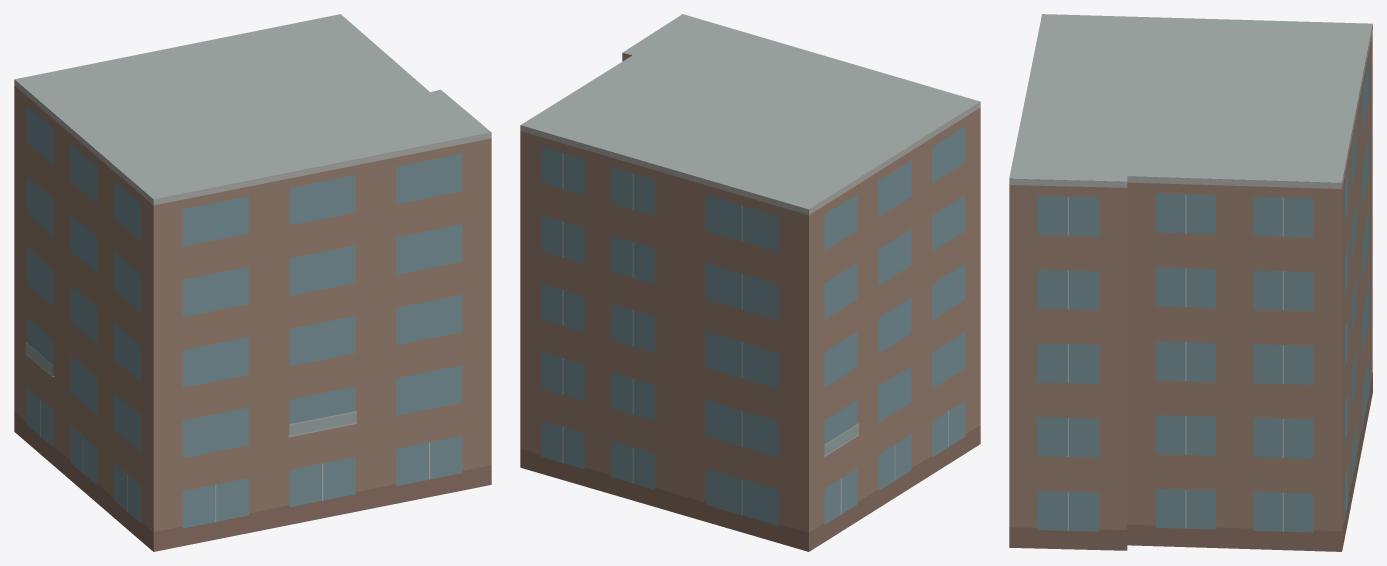
The model's file is survey-upis-32480153.glb.
3 renders of one model, left to right at view 1: azimuth 30°, elevation 25°; view 2: azimuth 150°, elevation 25°; view 3: azimuth 270°, elevation 25°, orthographic. The views are drawn at different scales.
Parts seen in each view (by area): view 1: survey-upis-32480153.tmp; view 2: survey-upis-32480153.tmp; view 3: survey-upis-32480153.tmp.
Part boxes in pixels (box(x1,y1,x2,y2)): survey-upis-32480153.tmp: box(14, 14, 491, 551); survey-upis-32480153.tmp: box(520, 14, 980, 551); survey-upis-32480153.tmp: box(1009, 14, 1372, 551).
Size of the model in its own units: 14.04 by 14.3 by 12.78.
